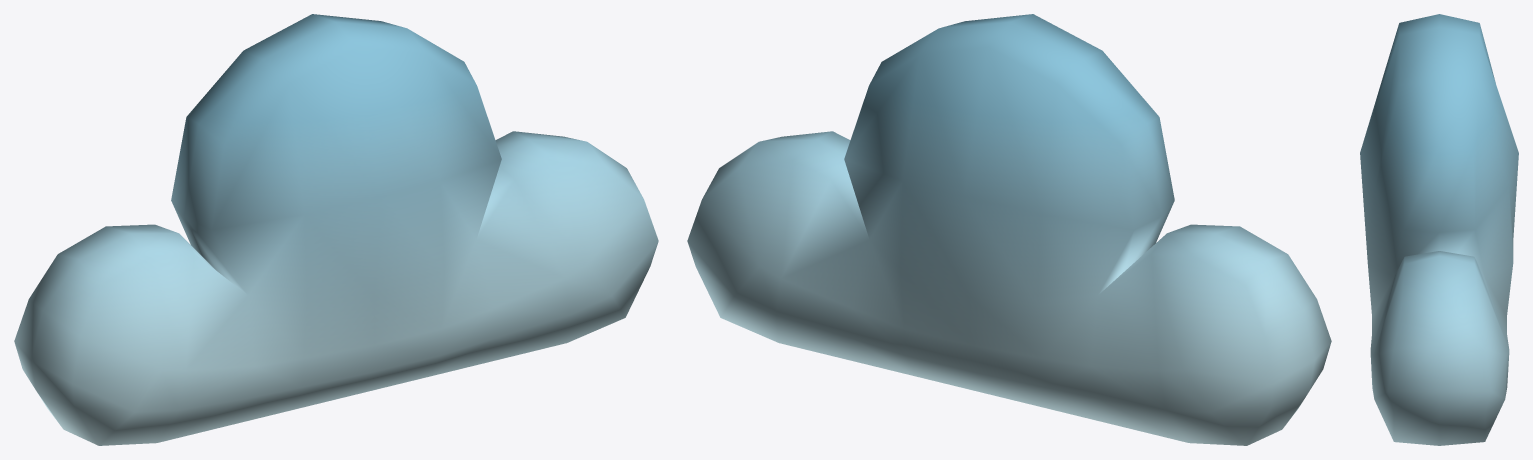
The model's file is cloud1.fbx.
3 renders of one model, left to right at view 1: azimuth 30°, elevation 25°; view 2: azimuth 150°, elevation 25°; view 3: azimuth 270°, elevation 25°, orthographic. The views are drawn at different scales.
Visible parts, largest first — view 1: cloud2.001; view 2: cloud2.001; view 3: cloud2.001.
Part boxes in pixels (box(x1,y1,x2,y2)): cloud2.001: box(14, 14, 658, 445); cloud2.001: box(687, 14, 1331, 445); cloud2.001: box(1360, 14, 1518, 445).
Size of the model in its own units: 5.64 by 3.12 by 1.45.
